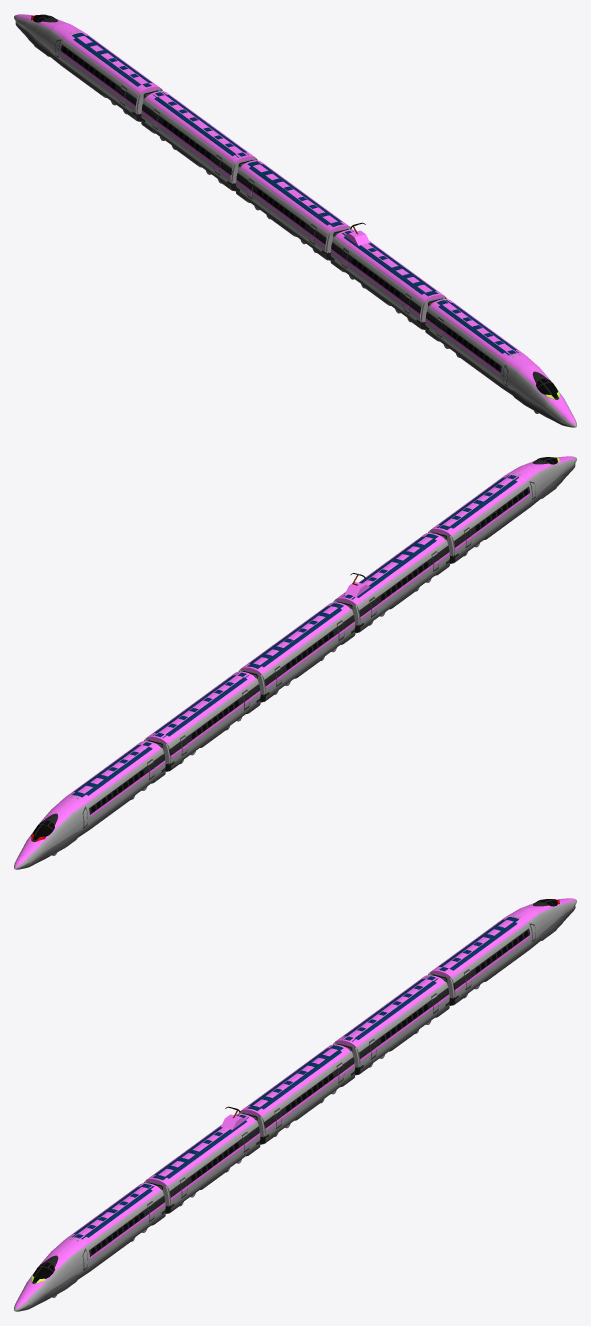
Rendered from shinkansen.glb.
3 views of the same model, one above another, from view 1: azimuth 30°, elevation 25°; view 2: azimuth 150°, elevation 25°; view 3: azimuth 330°, elevation 25° (orthographic).
Parts seen in each view (by area): view 1: Object_8, Object_5, Object_4, Object_2, Object_6, Object_3, Object_7, Object_11, Object_12, Object_10, Object_13, Object_9 (+1 smaller); view 2: Object_8, Object_5, Object_4, Object_2, Object_3, Object_6, Object_11, Object_10, Object_12, Object_7, Object_9, Object_13 (+1 smaller); view 3: Object_5, Object_8, Object_2, Object_3, Object_9, Object_11, Object_4, Object_7, Object_12, Object_10, Object_6, Object_13 (+2 smaller).
Part boxes in pixels (box(x1,y1,x2,y2)): Object_8: box(14, 14, 444, 321); Object_5: box(100, 55, 576, 427); Object_4: box(141, 95, 468, 325); Object_2: box(141, 91, 377, 289); Object_6: box(330, 256, 561, 424); Object_3: box(141, 92, 489, 333); Object_7: box(61, 44, 572, 425); Object_11: box(236, 167, 398, 300); Object_12: box(236, 161, 447, 329); Object_10: box(16, 15, 425, 322); Object_13: box(249, 166, 438, 296); Object_9: box(15, 14, 397, 268); Object_8: box(14, 533, 449, 869); Object_5: box(101, 456, 576, 775); Object_4: box(155, 507, 479, 759); Object_2: box(146, 574, 403, 766); Object_3: box(144, 497, 490, 771); Object_6: box(356, 465, 574, 633); Object_11: box(239, 568, 427, 702); Object_10: box(28, 539, 449, 866); Object_12: box(247, 536, 449, 689); Object_7: box(89, 457, 575, 814); Object_9: box(20, 567, 399, 869); Object_13: box(260, 534, 438, 667); Object_5: box(14, 939, 490, 1311); Object_8: box(146, 898, 576, 1185); Object_2: box(234, 975, 449, 1150); Object_3: box(101, 976, 449, 1217); Object_9: box(193, 899, 557, 1152); Object_11: box(204, 1051, 354, 1165); Object_4: box(111, 981, 436, 1243); Object_7: box(20, 947, 471, 1311); Object_12: box(165, 1045, 343, 1213); Object_10: box(144, 899, 559, 1182); Object_6: box(70, 1189, 165, 1250); Object_13: box(152, 1048, 330, 1180).
Bounding box in the file's own units: 3.27 × 5.26 × 105.
Materials: 1 (1 with a texture image).
